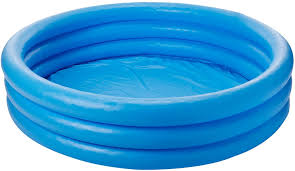havuz: (1, 1, 293, 170)
